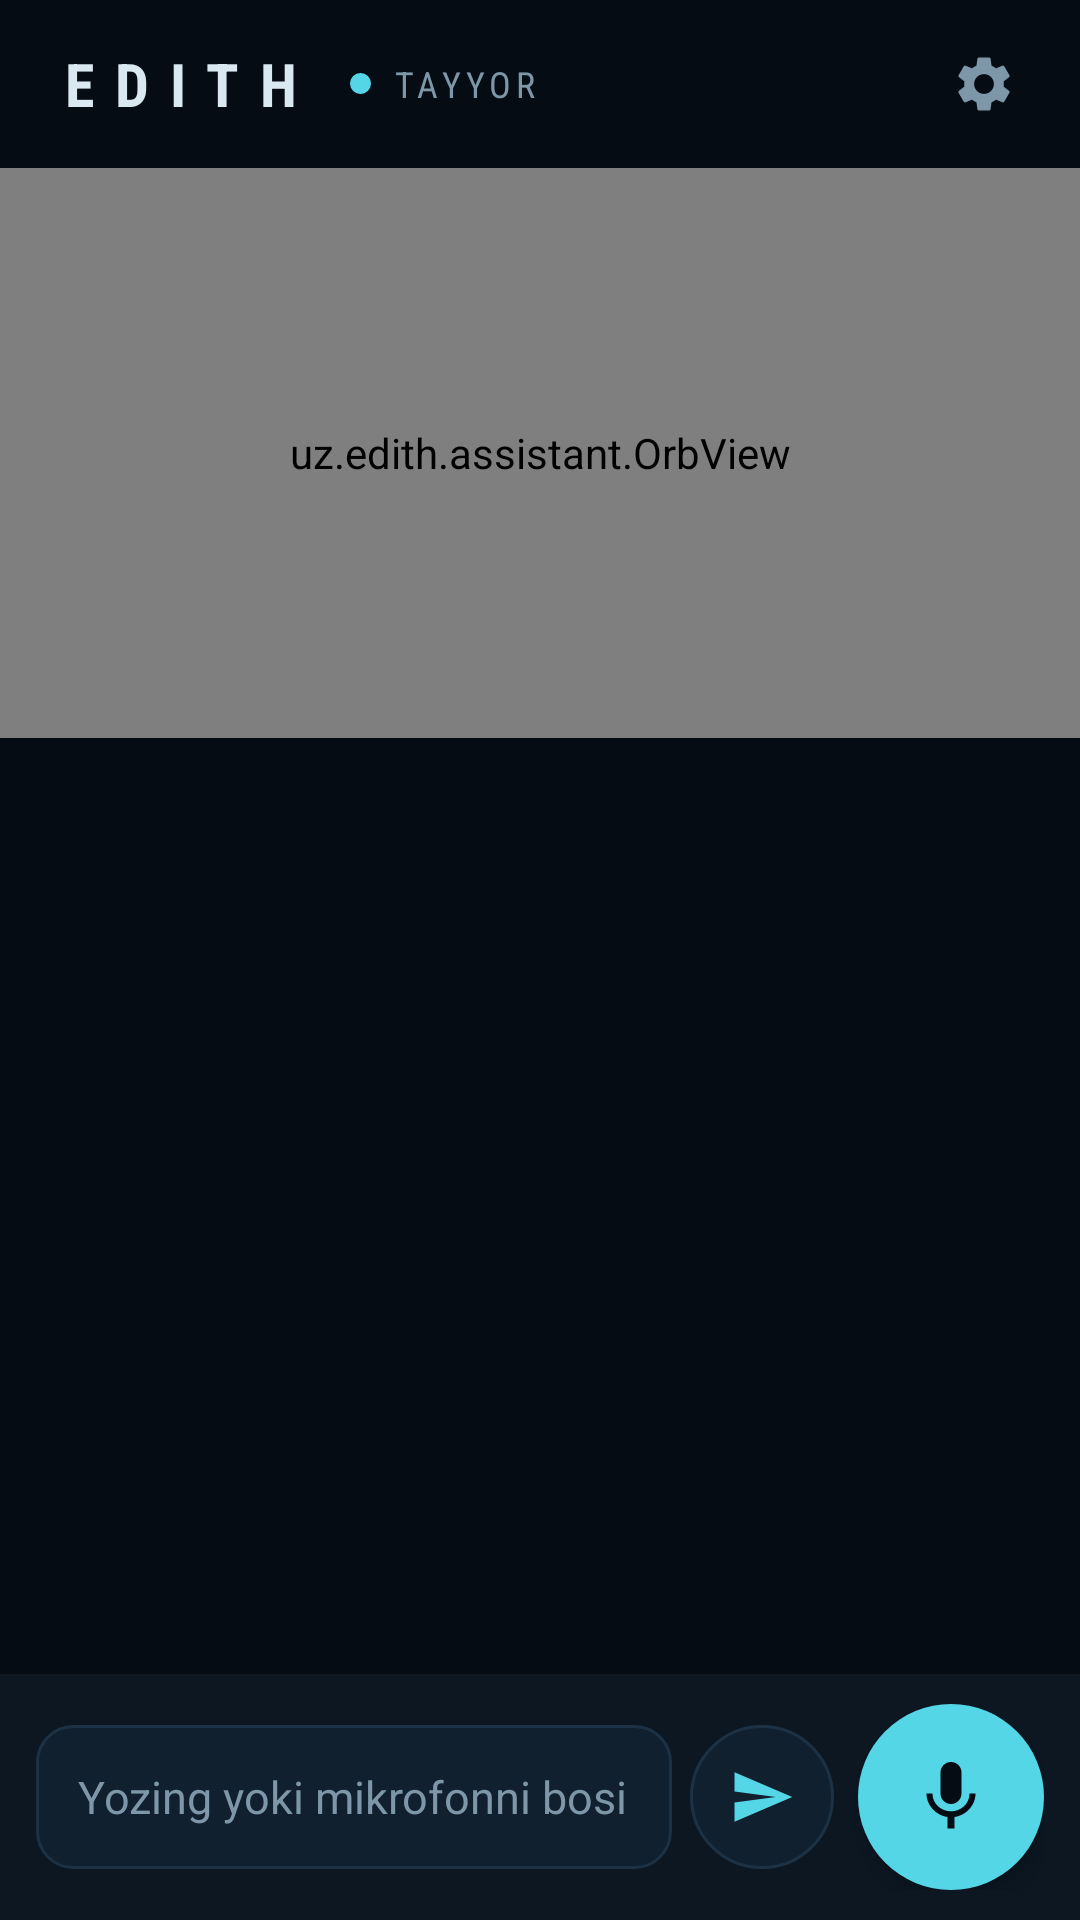

Named icons in this screenshot (1080x1920) and their centers, point (x, y):
Gapirish: point (951, 1797)
Sozlamalar: point (984, 84)
Yuborish: point (762, 1797)
